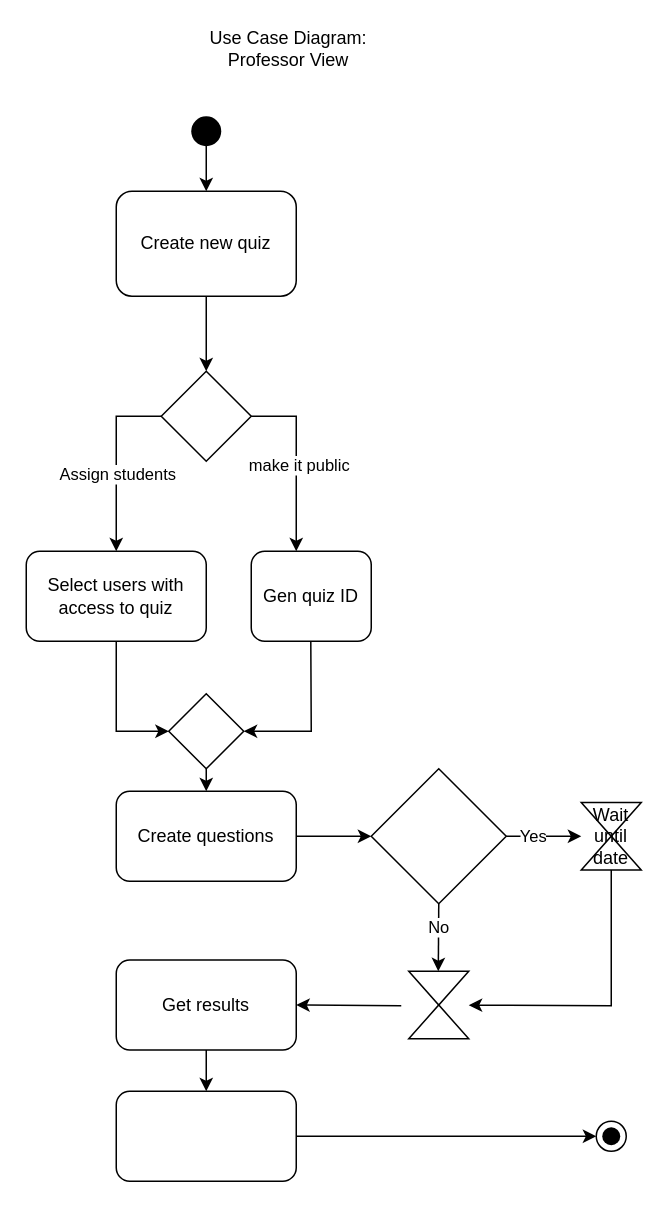
This 668x1208 diagram has some shape labels left out. Here are the shapes that lost their labels. From the top down, the centre of each, then its label:
At pixel 438 835: "Date release setted".
At pixel 438 1004: "Wait students finish".
At pixel 205 1135: "Review / feedback students work".
